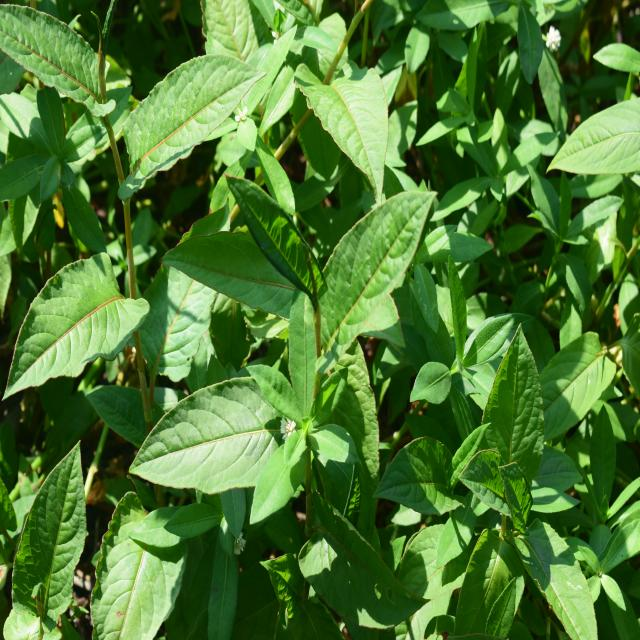Chinese_knotweed: (0, 7, 231, 364), (199, 166, 420, 355)
